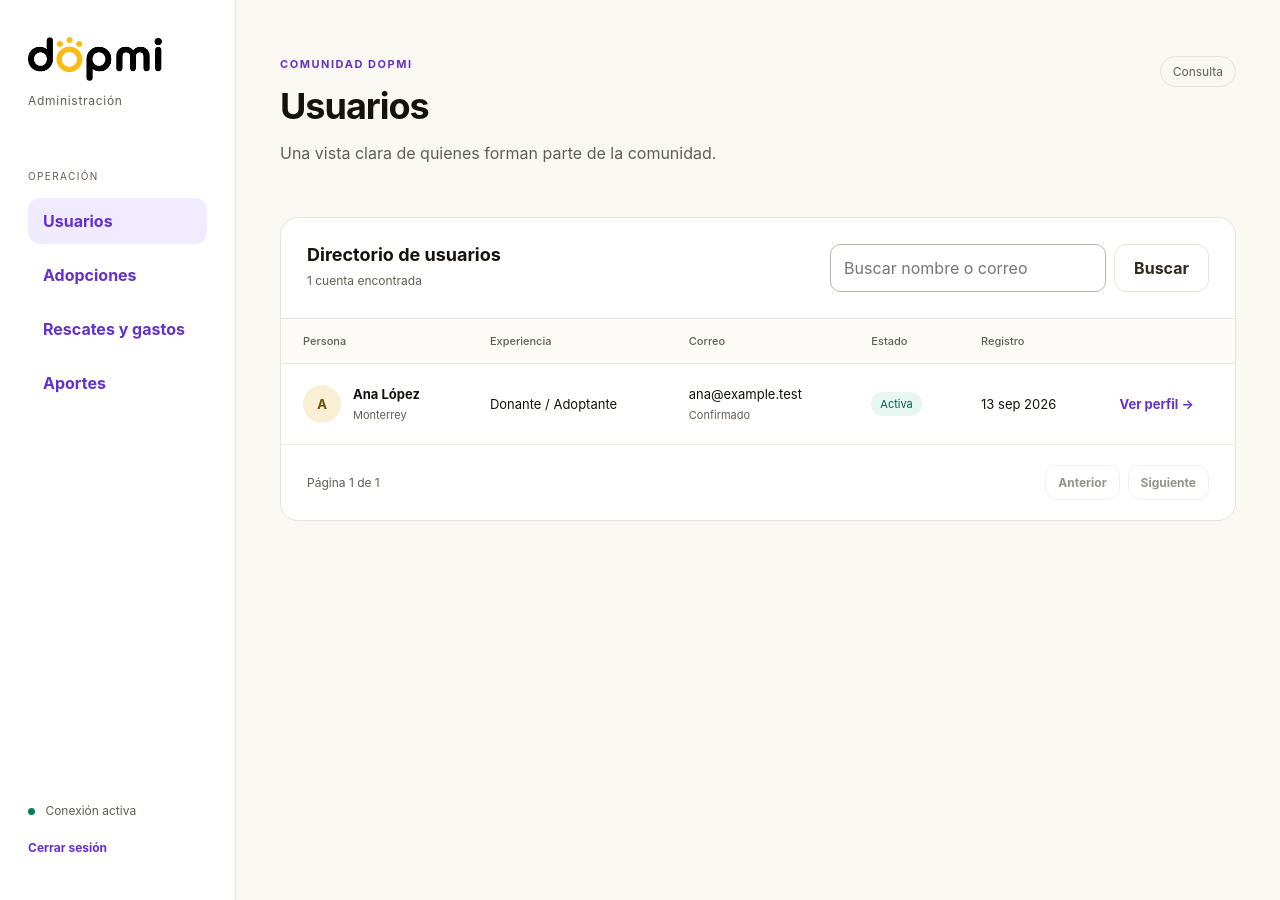
Test: administración de usuarios › navega y consulta la cola de aportes
Step 1. Click the button "Aportes" → (118, 383), box x1=28 y1=360 x2=207 y2=406
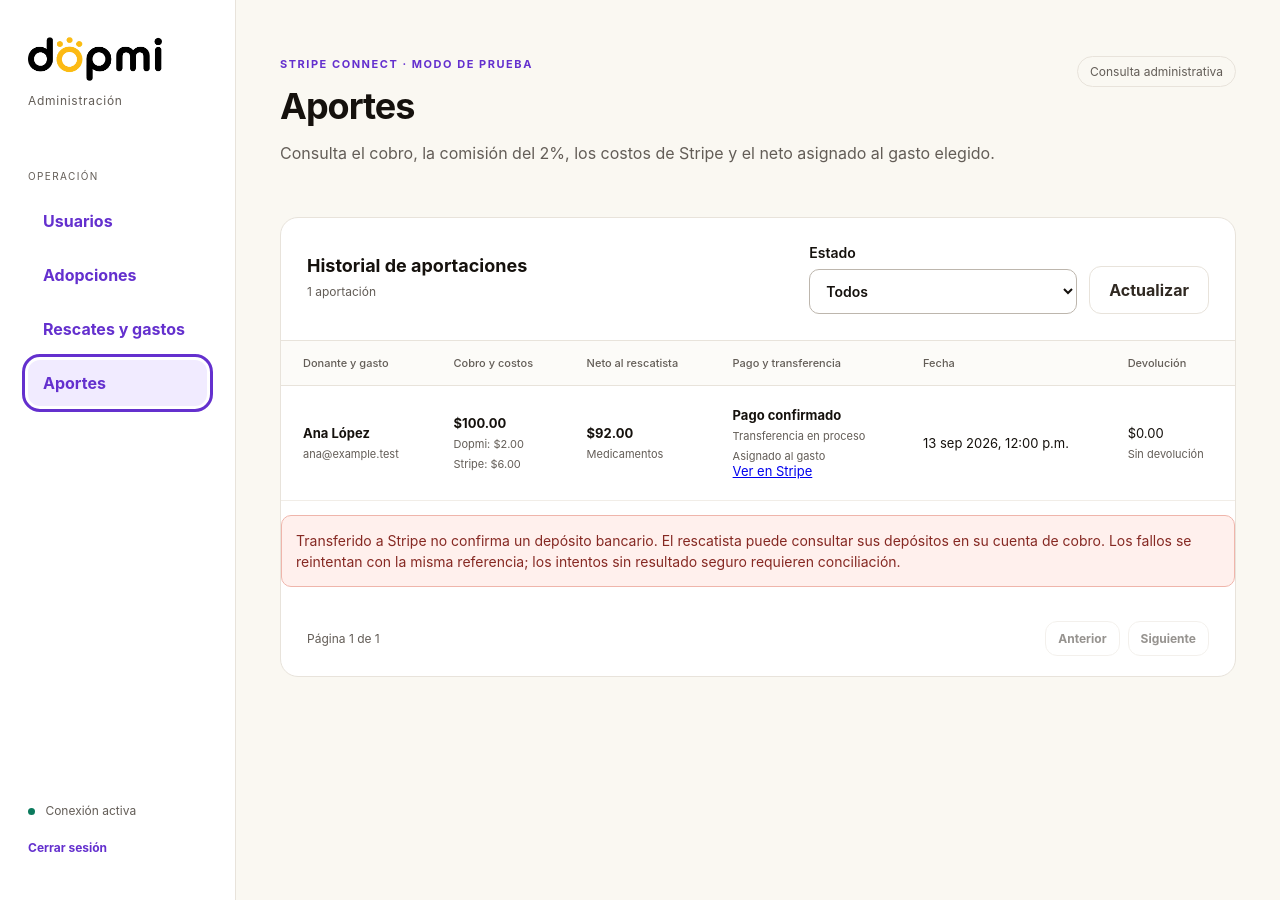
Check: the heading "Aportes" is shown, box x1=280 y1=84 x2=414 y2=128
